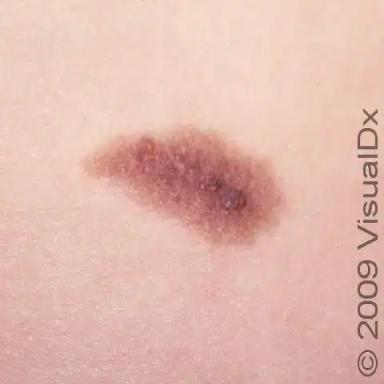nevus: (83, 125, 284, 242)
